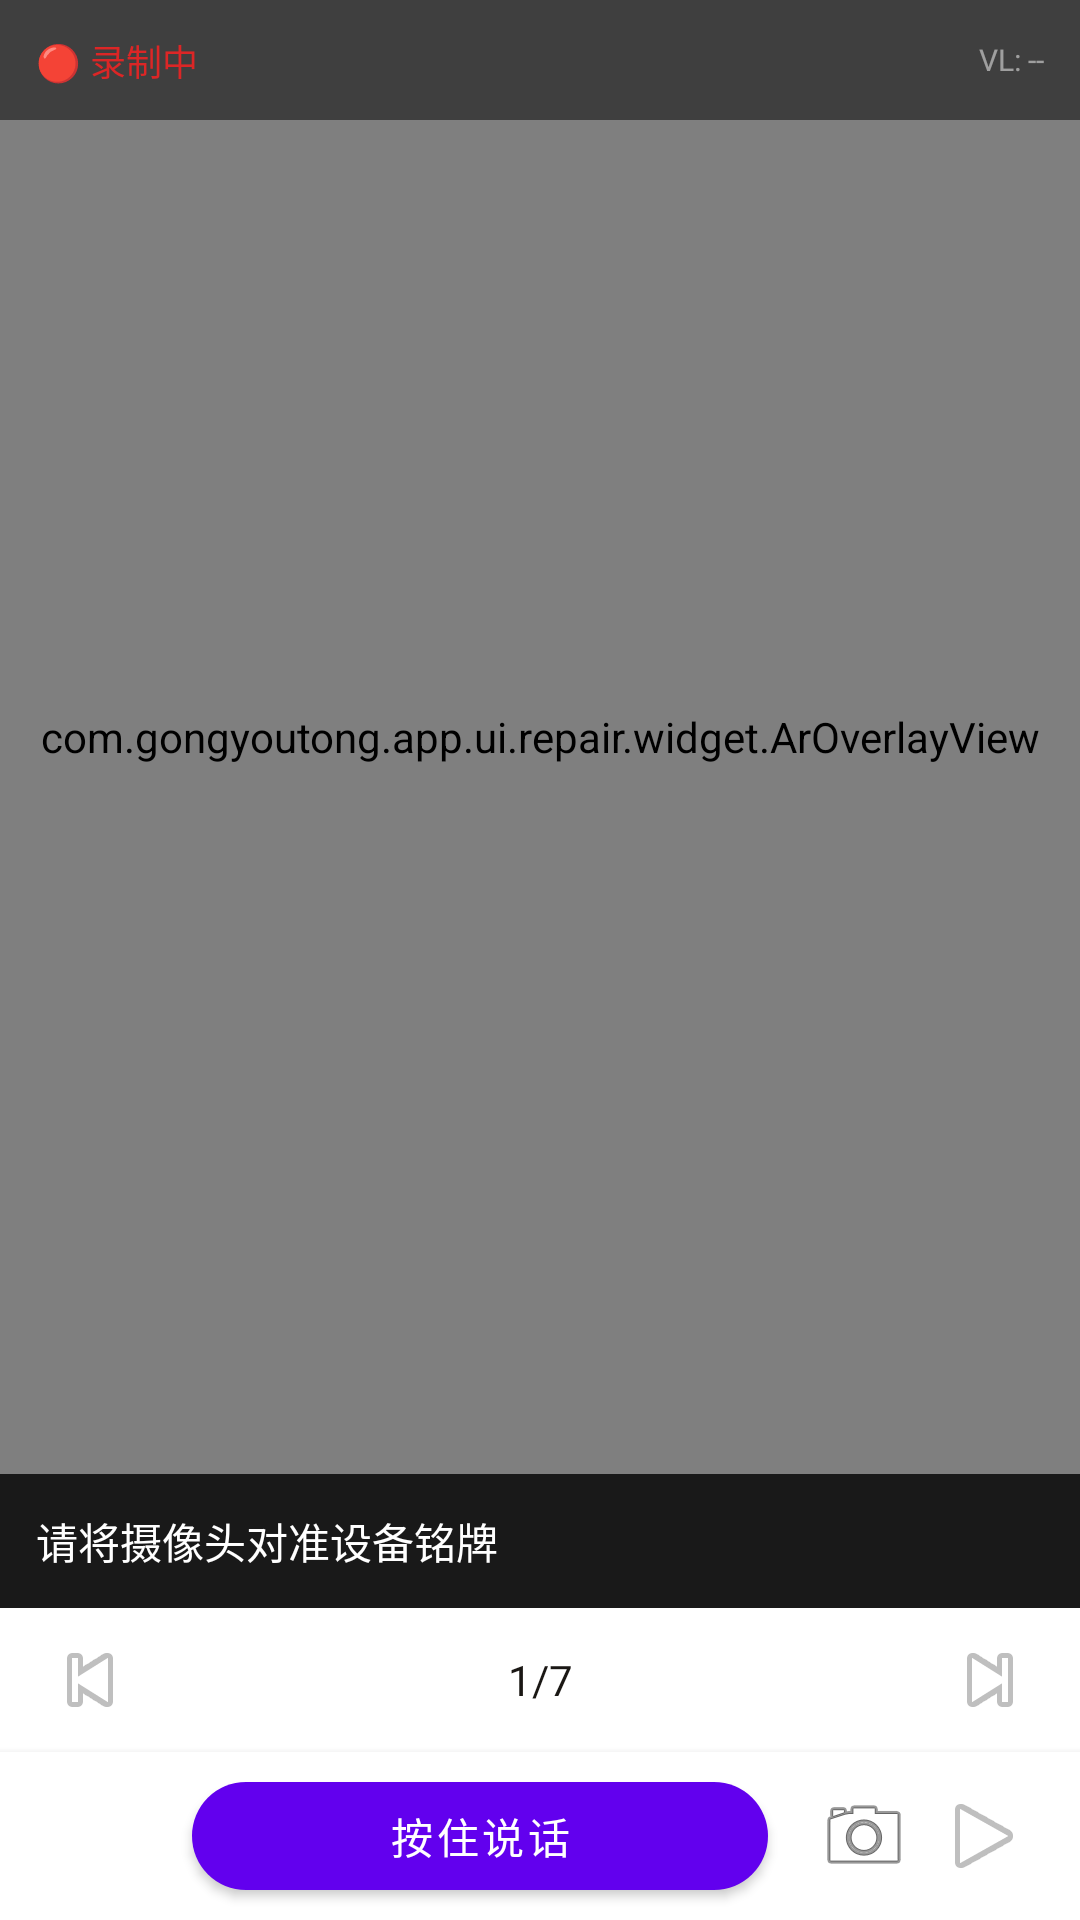

Where icons sit on this 1080 x 1920 app screen, as (x1, y1, x2, y2):
play: (955, 1804, 1013, 1868)
上一步: (67, 1653, 113, 1707)
拍照: (827, 1805, 901, 1864)
跳过: (967, 1653, 1013, 1707)
